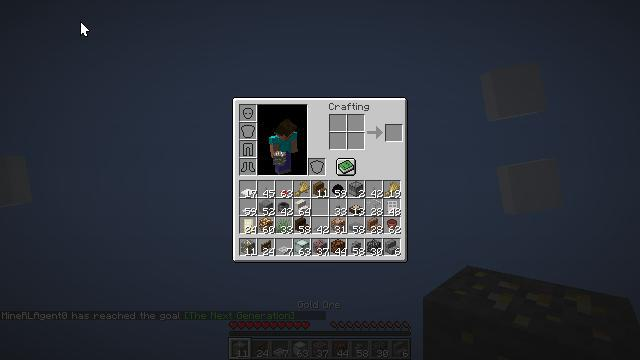cursor: (80, 21, 90, 37)
